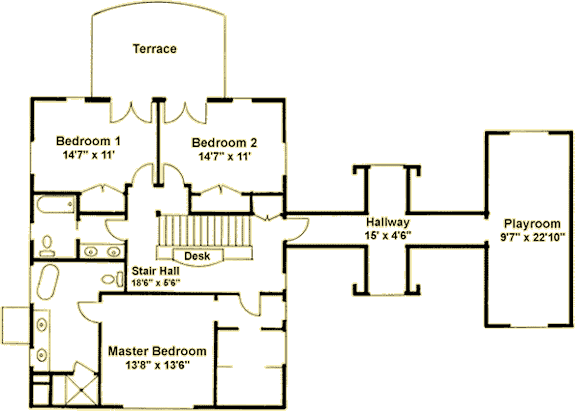door: (107, 94, 155, 129), (162, 95, 210, 128), (236, 290, 268, 319), (283, 213, 314, 242), (128, 160, 155, 191), (74, 298, 105, 325), (161, 159, 187, 190)
large sink: (98, 269, 124, 293), (38, 233, 57, 262)
small sink: (34, 310, 50, 373), (79, 241, 125, 262)
stairs: (154, 211, 255, 267)
tub: (33, 262, 62, 304), (34, 195, 76, 218)
